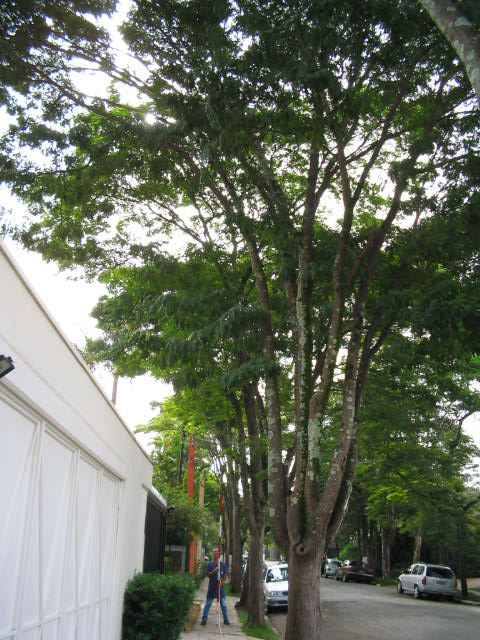stem: (276, 542, 333, 640), (243, 542, 270, 631)
stick: (210, 490, 233, 627)
tree: (103, 2, 478, 640)
